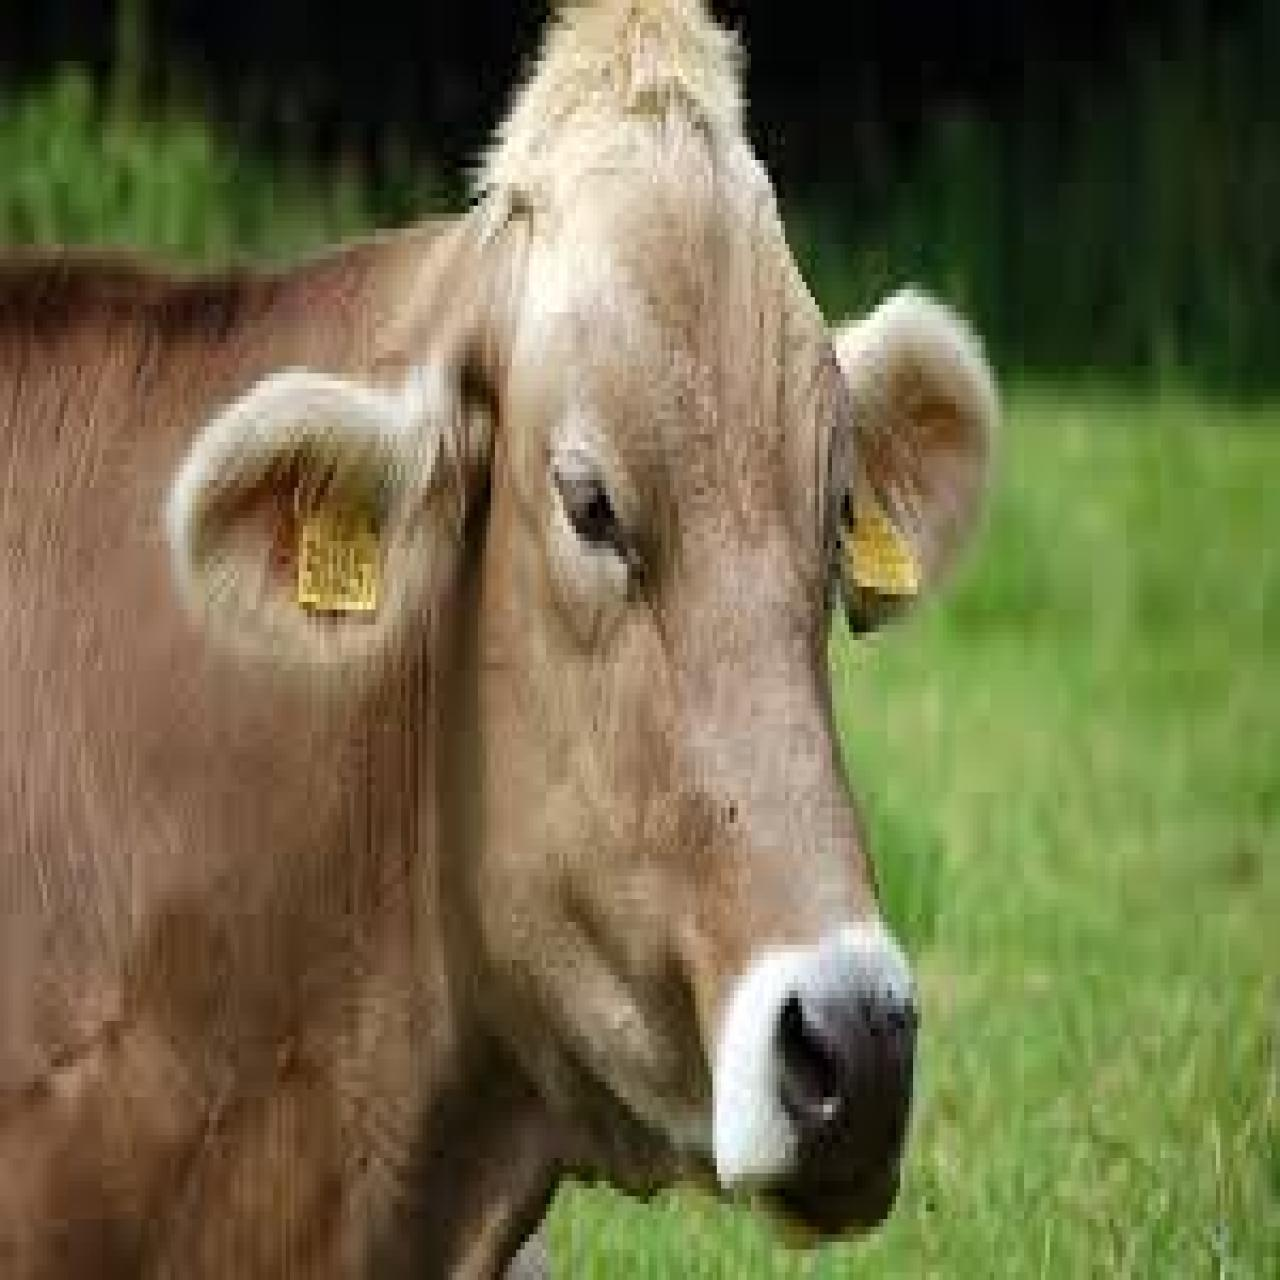cow: (0, 0, 1007, 1280)
